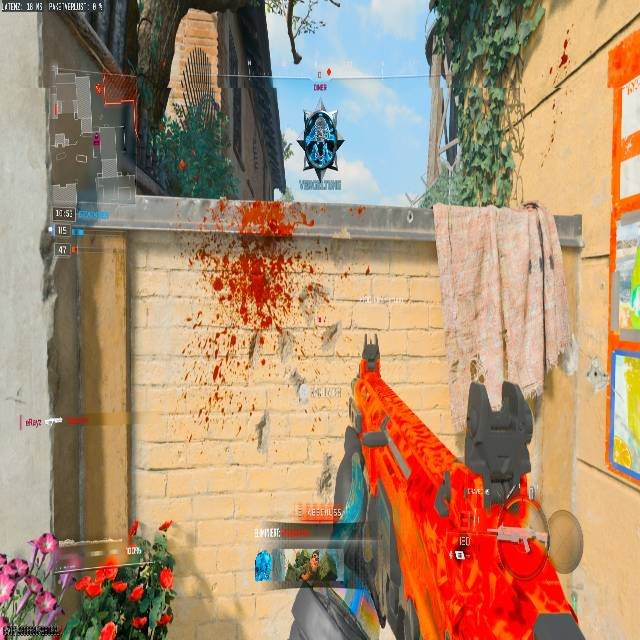head: (292, 548, 337, 587)
player: (299, 106, 343, 182)
